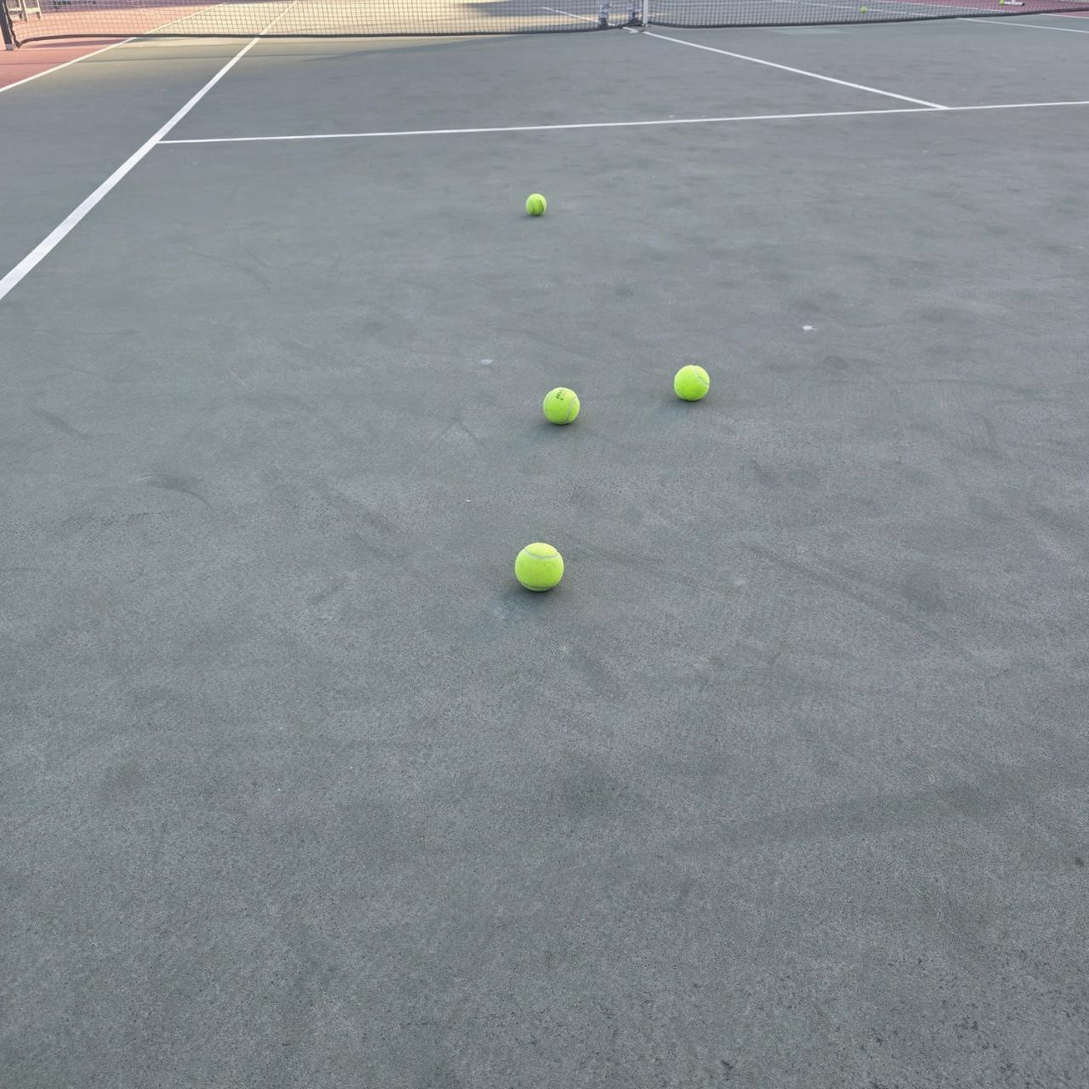tennis-ball: (514, 539, 567, 592), (543, 385, 582, 425), (674, 362, 712, 402), (525, 191, 549, 216)
